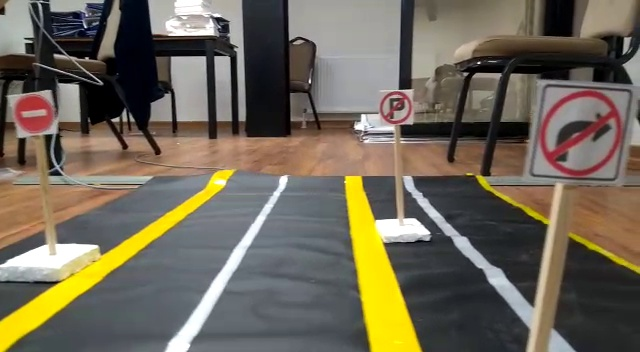girisi_olmayan_yol: (10, 94, 58, 133)
park_yapilmaz: (377, 88, 414, 124)
saga_donulmez: (541, 79, 621, 180)
